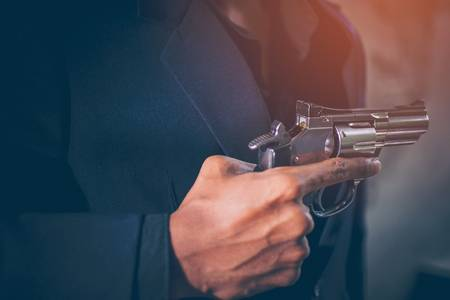Revolver: (233, 81, 434, 219)
